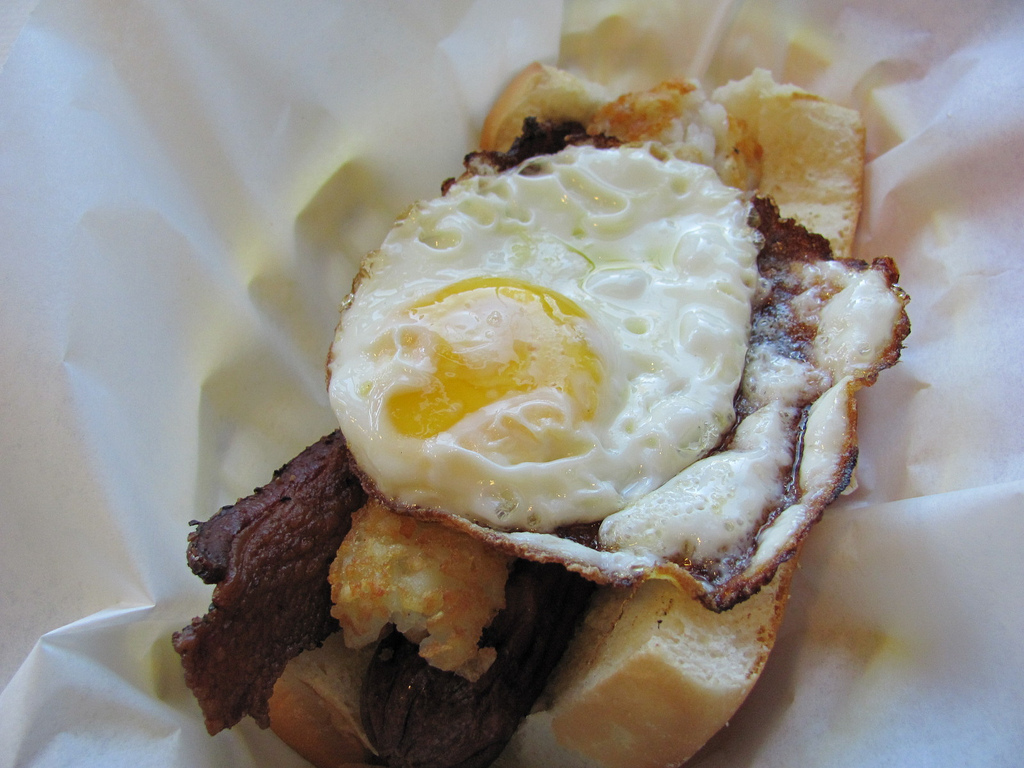fried egg: (314, 93, 916, 614)
